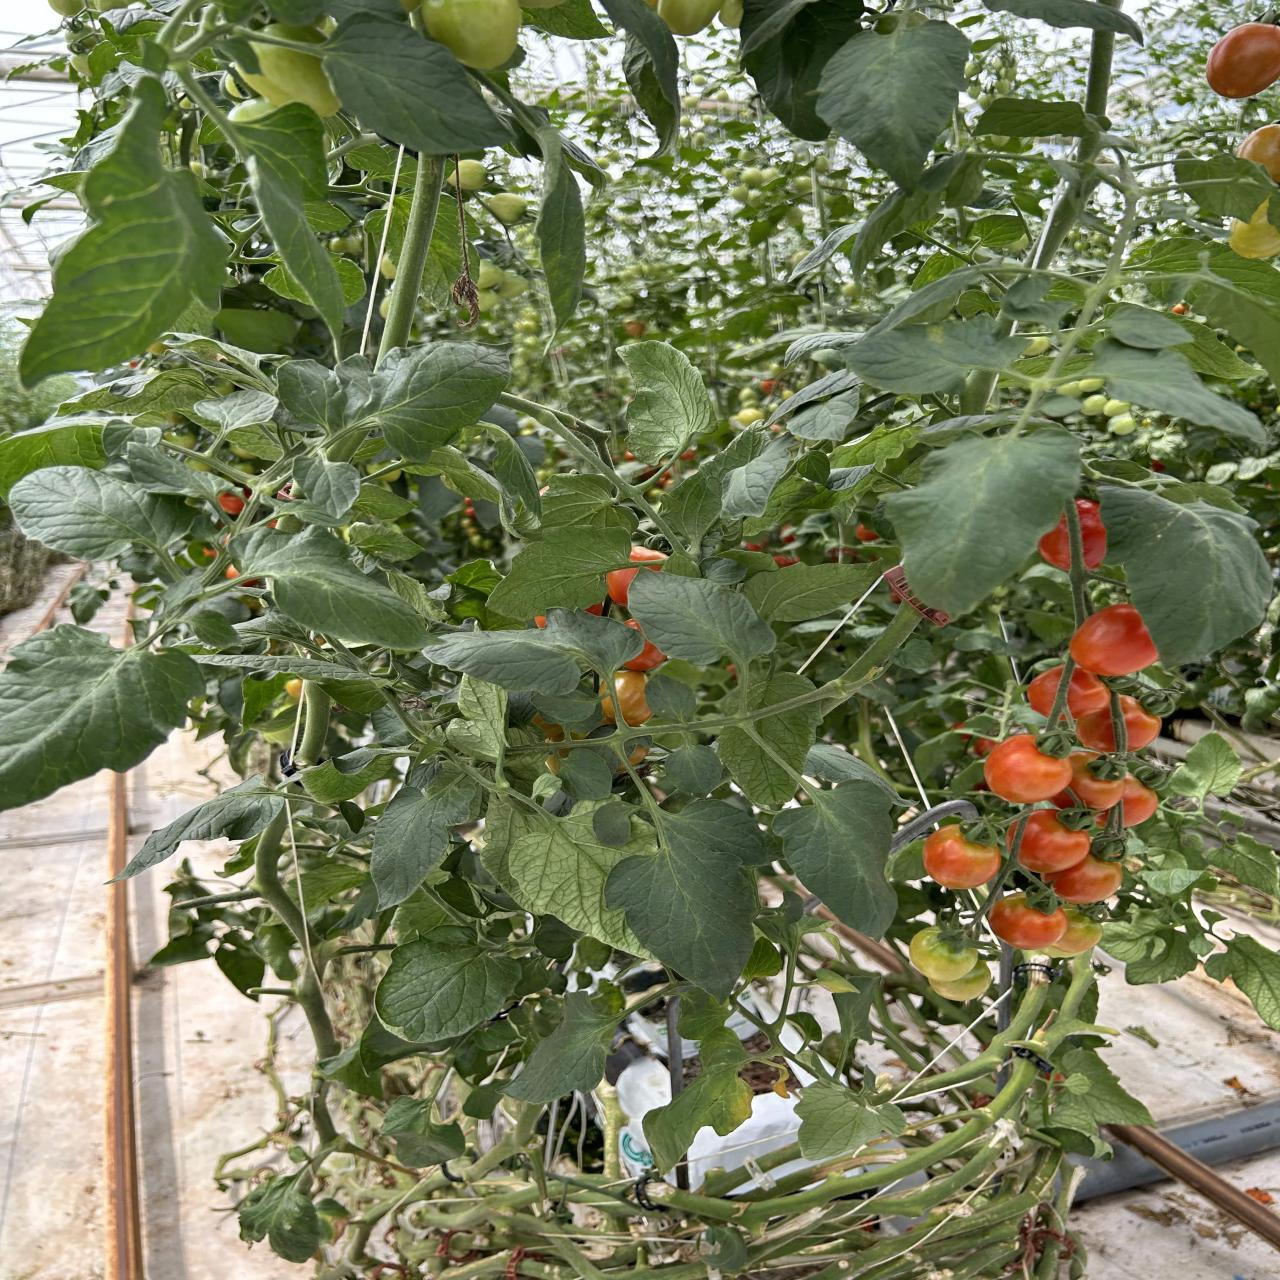Hoja: (21, 78, 228, 382), (883, 425, 1081, 617), (0, 625, 205, 810), (1099, 486, 1273, 667), (604, 801, 762, 994), (323, 10, 517, 155), (276, 342, 509, 460), (817, 20, 969, 188), (227, 525, 428, 646), (772, 780, 897, 938), (423, 608, 643, 697), (11, 466, 192, 570), (371, 761, 488, 907), (376, 925, 521, 1041), (629, 571, 775, 666), (847, 319, 1028, 394), (489, 525, 630, 620), (505, 991, 621, 1104), (621, 341, 715, 468), (719, 705, 821, 804), (796, 1080, 906, 1161), (743, 562, 881, 621), (293, 451, 361, 522), (1104, 302, 1192, 350), (665, 745, 725, 797), (558, 747, 616, 800), (645, 675, 697, 720), (750, 673, 811, 709), (793, 450, 830, 487), (602, 698, 611, 717), (339, 517, 348, 526)
Pedunculo: (257, 806, 373, 1063), (738, 1120, 987, 1224), (1030, 28, 1114, 268), (1051, 170, 1137, 377), (380, 153, 445, 355), (1030, 960, 1123, 1063), (892, 1036, 1009, 1099), (990, 966, 1049, 1058), (293, 681, 331, 769), (952, 1142, 998, 1185), (665, 996, 683, 1099), (665, 1193, 737, 1218)
Tomate: (824, 602, 921, 692), (1070, 603, 1158, 677), (984, 734, 1073, 803), (1206, 23, 1280, 98), (1007, 809, 1090, 875), (923, 824, 1001, 889), (1049, 754, 1130, 810), (989, 896, 1067, 950), (1046, 855, 1122, 904), (1092, 774, 1159, 828), (1228, 200, 1280, 259), (1237, 123, 1280, 183), (1118, 695, 1161, 751), (1070, 698, 1113, 751), (1075, 499, 1106, 569), (1068, 668, 1109, 720), (615, 670, 652, 727), (1026, 666, 1063, 716), (1038, 516, 1072, 569)
Tomate Rugoso: (909, 926, 978, 984), (1048, 906, 1102, 957), (930, 961, 991, 1002)
